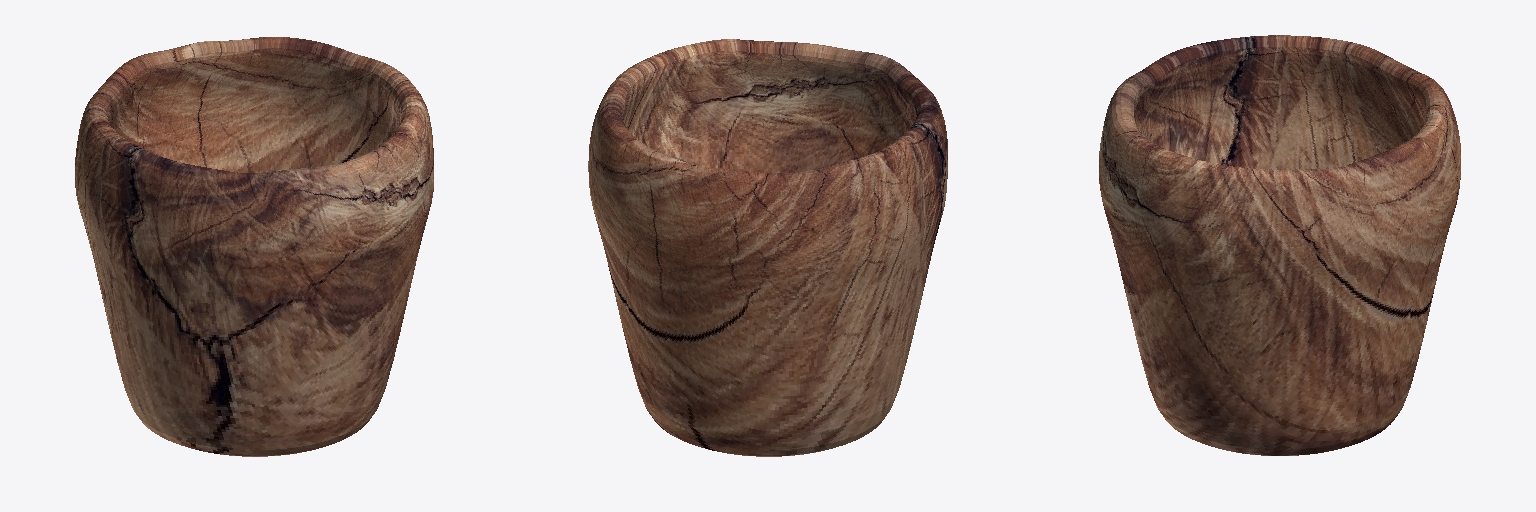
3 views of the same model, side by side, from view 1: azimuth 30°, elevation 25°; view 2: azimuth 150°, elevation 25°; view 3: azimuth 270°, elevation 25° (orthographic).
Parts seen in each view (by area): view 1: Sphere; view 2: Sphere; view 3: Sphere.
Part boxes in pixels (x1,y1,x2,y2): Sphere: (75, 37, 433, 456); Sphere: (588, 39, 947, 456); Sphere: (1099, 35, 1460, 455).
Size of the model in its own units: 2 by 1.86 by 2.01.
Materials: 1 (1 with a texture image).